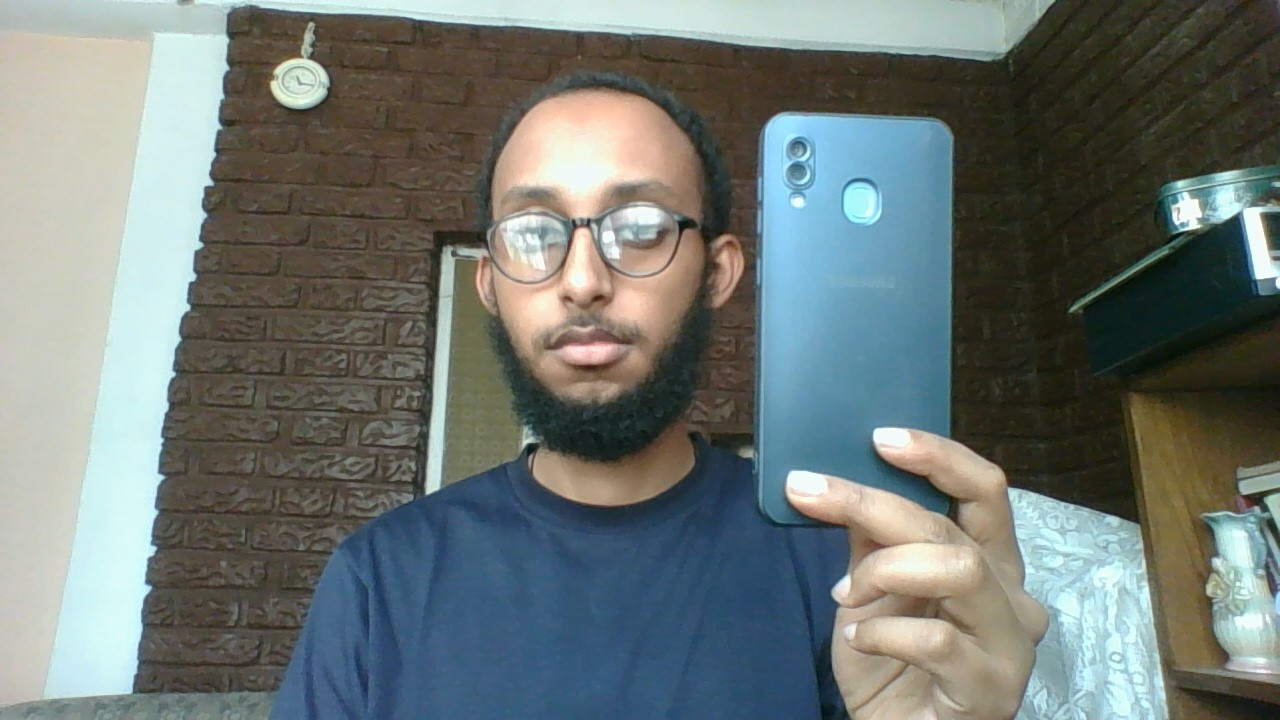Smart_phone: (749, 95, 965, 540)
